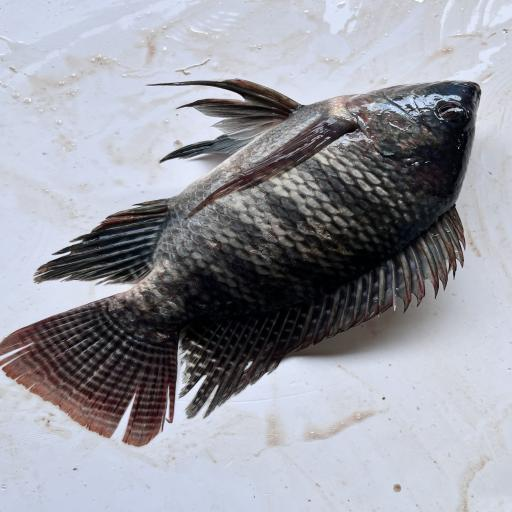Tilapia: (0, 78, 482, 447)
